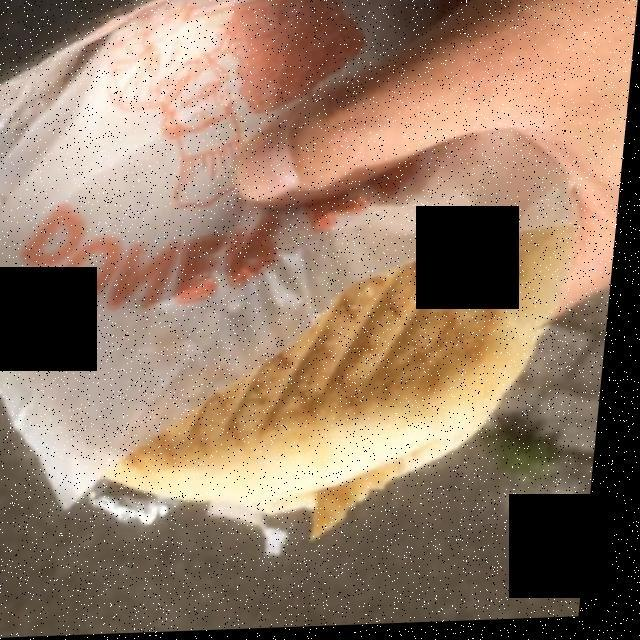bread: (57, 225, 566, 530)
